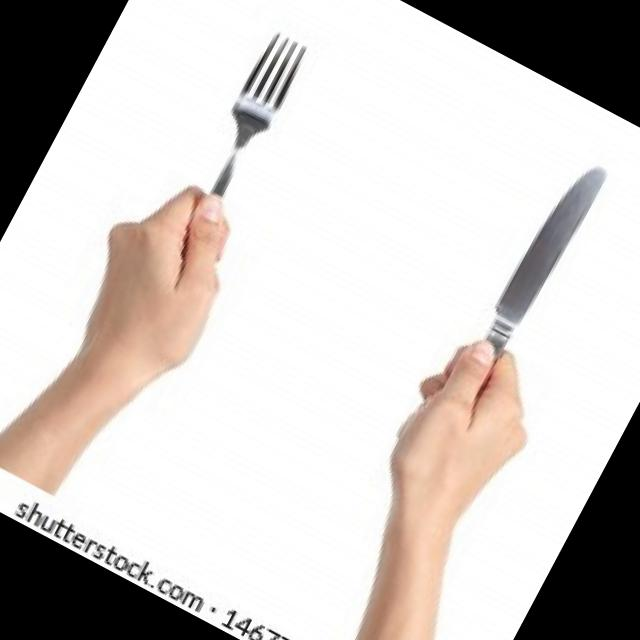fork: (154, 22, 319, 264)
